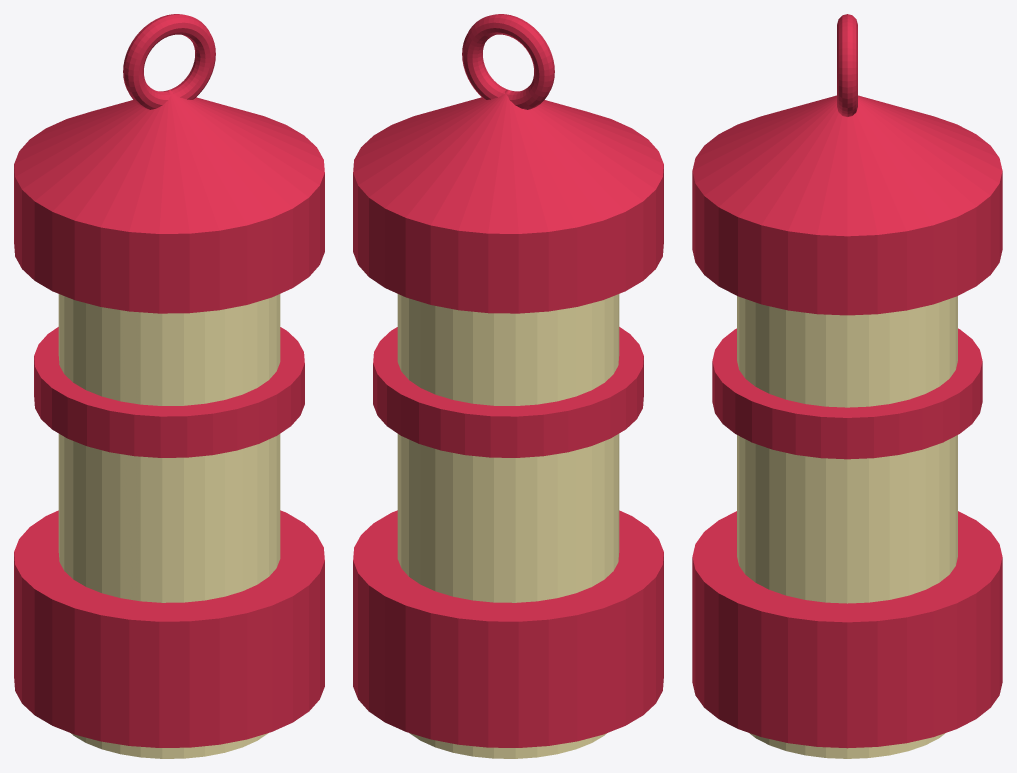
File: lantern.fbx
3 renders of one model, left to right at view 1: azimuth 30°, elevation 25°; view 2: azimuth 150°, elevation 25°; view 3: azimuth 270°, elevation 25°, orthographic.
Visible parts, largest first — view 1: Cylinder.005, Cylinder.004; view 2: Cylinder.005, Cylinder.004; view 3: Cylinder.005, Cylinder.004.
Part boxes in pixels (box(x1,y1,x2,y2)): Cylinder.005: box(14, 14, 324, 747); Cylinder.004: box(58, 294, 280, 758); Cylinder.005: box(353, 14, 663, 747); Cylinder.004: box(397, 294, 619, 758); Cylinder.005: box(692, 14, 1002, 748); Cylinder.004: box(737, 296, 957, 758).
Size of the model in its own units: 45.99 by 113 by 45.99.
